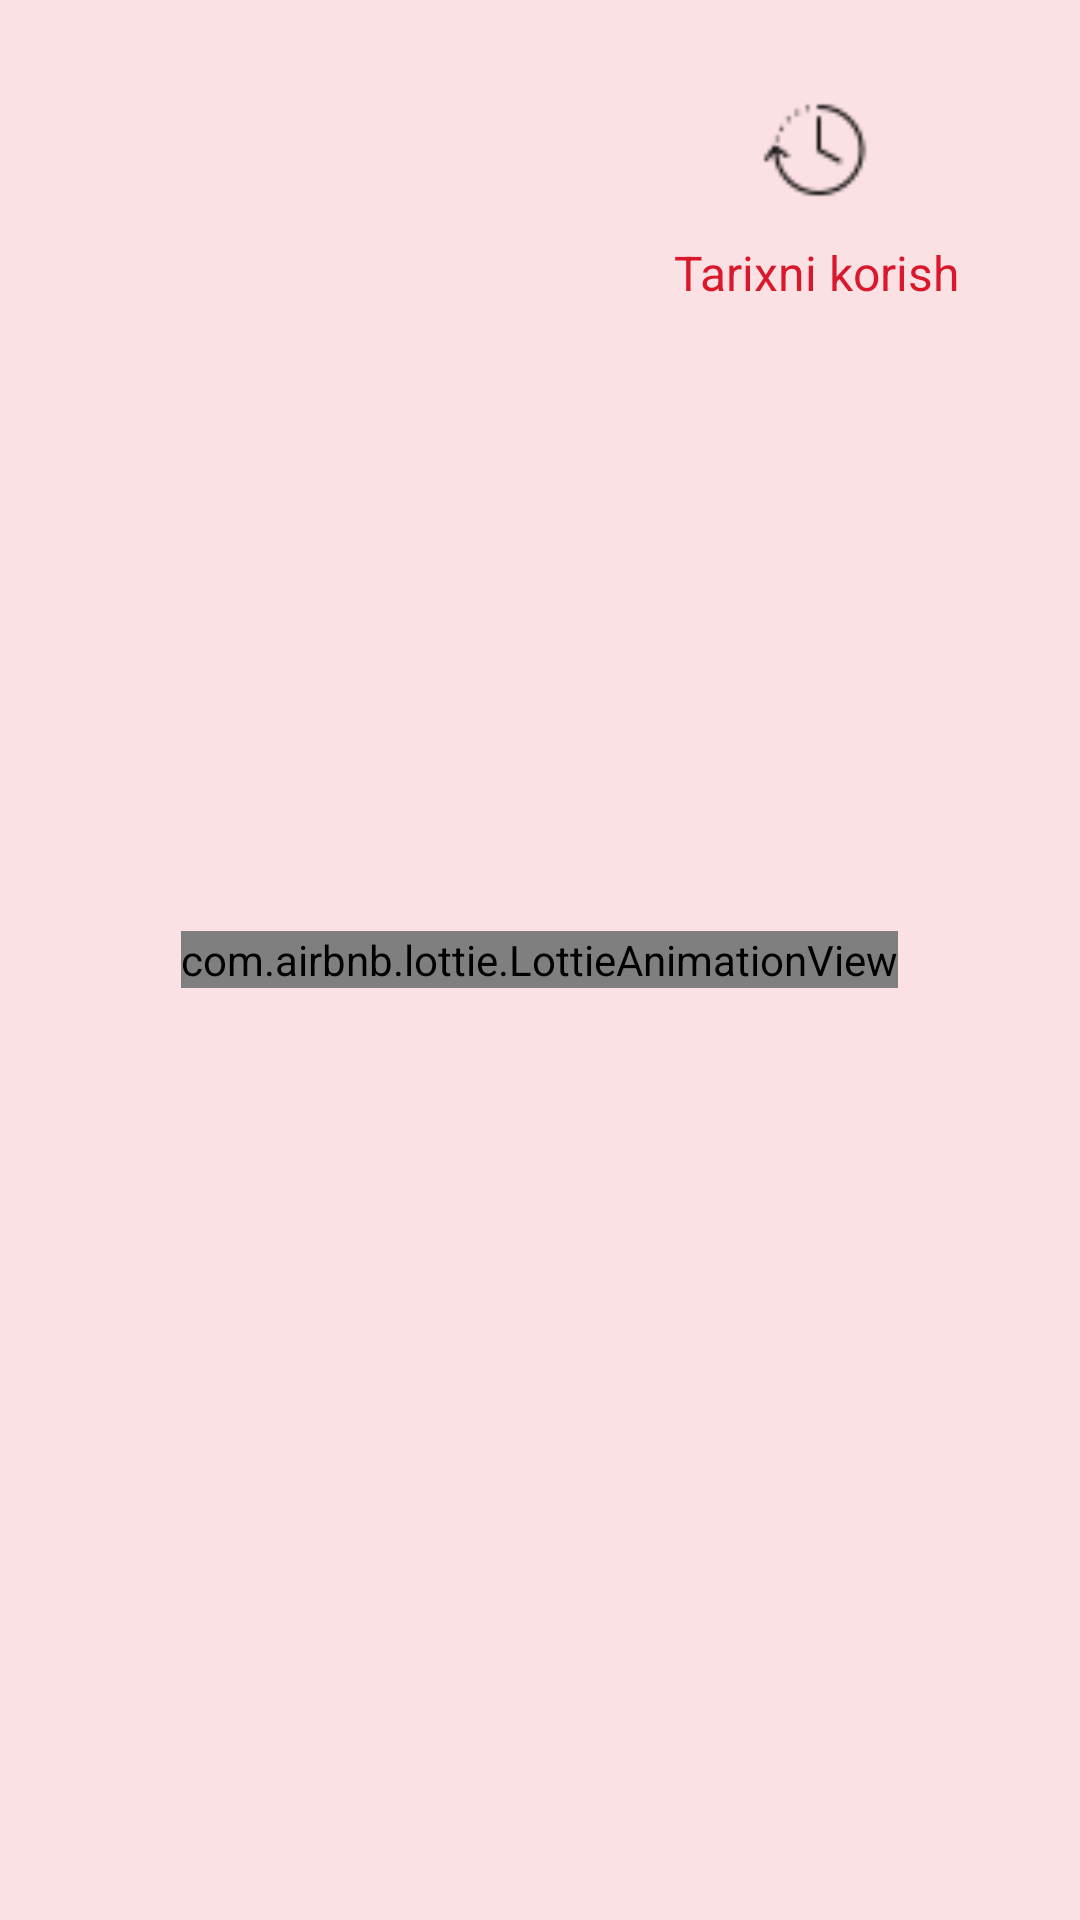

Point at icon controls on the screen. Image size 1080x1920, points as (x,y).
history: (815,150)
